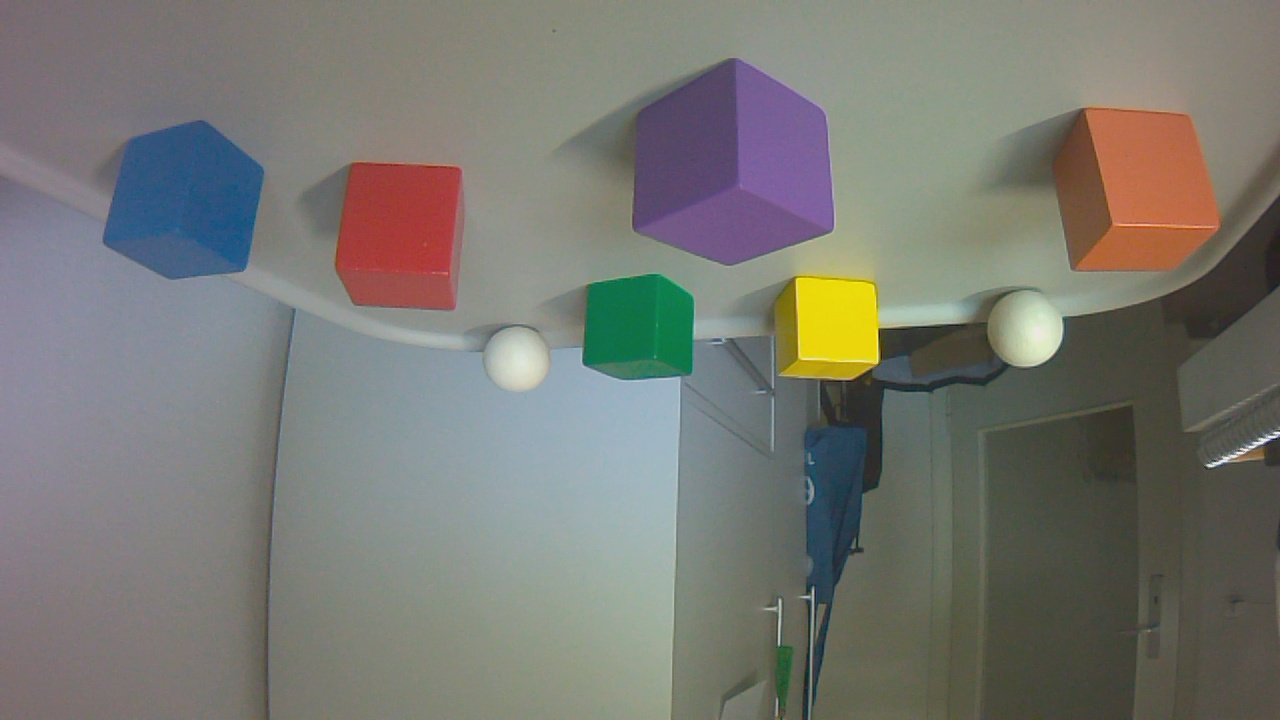ball: (990, 292, 1070, 374), (487, 328, 557, 400)
cube_blue: (105, 122, 272, 288)
cube_green: (585, 278, 700, 388)
cube_orange: (1055, 111, 1227, 280)
cube_purple: (635, 62, 840, 273)
cube_red: (336, 165, 473, 318)
cube_yellow: (775, 280, 885, 387)
